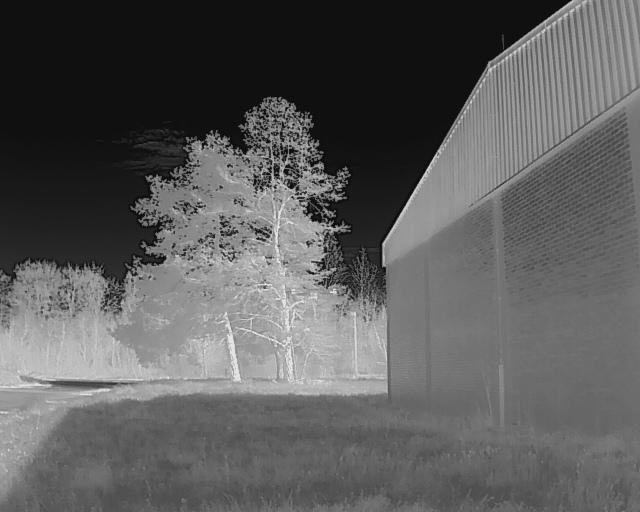drone: (283, 274, 342, 320)
